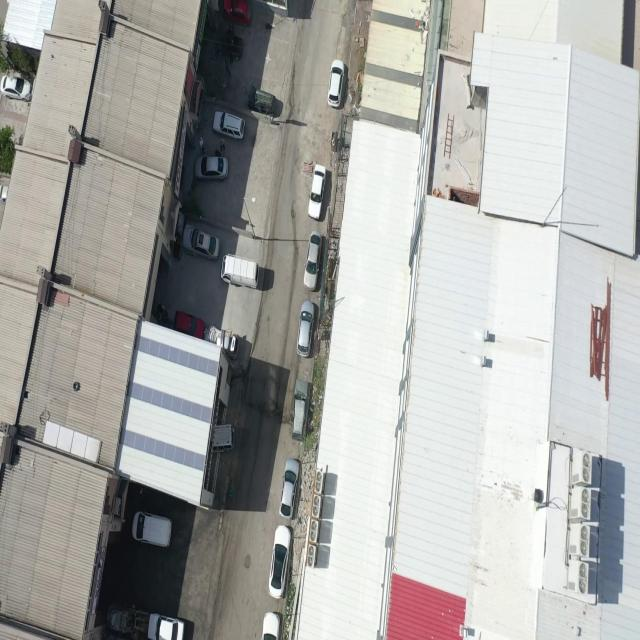p3rson: (224, 59, 231, 76), (198, 137, 204, 153), (229, 50, 234, 64), (220, 138, 225, 150), (214, 150, 222, 156), (230, 24, 233, 34)
